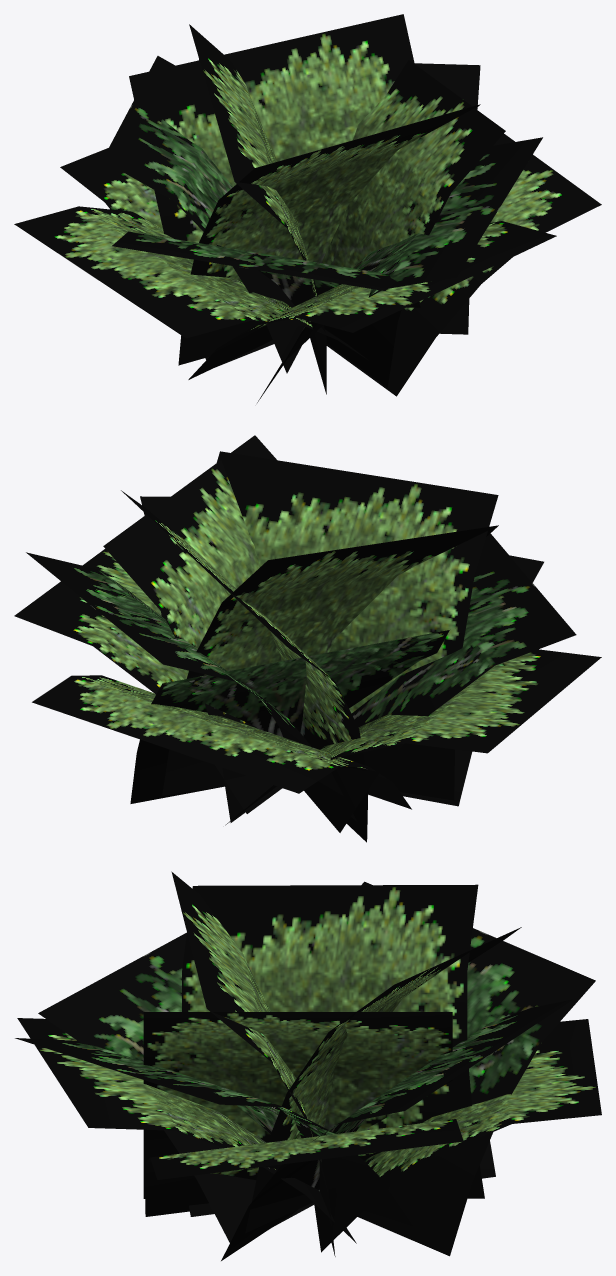
The model's file is bush.obj.
The picture shows the model from 3 angles, top to bottom: view 1: azimuth 30°, elevation 25°; view 2: azimuth 150°, elevation 25°; view 3: azimuth 270°, elevation 25°; orthographic projection. The views are drawn at different scales.
Parts seen in each view (by area): view 1: Vertex_Object_62, Vertex_Object_12, Vertex_Object_72, Vertex_Object_22, Vertex_Object, Vertex_Object_32, Vertex_Object_92, Vertex_Object_112, Vertex_Object_82, Vertex_Object_4, Vertex_Object_102, Vertex_Object_5; view 2: Vertex_Object_72, Vertex_Object_82, Vertex_Object_4, Vertex_Object_12, Vertex_Object_102, Vertex_Object, Vertex_Object_22, Vertex_Object_92, Vertex_Object_5, Vertex_Object_62, Vertex_Object_112; view 3: Vertex_Object_82, Vertex_Object_12, Vertex_Object, Vertex_Object_102, Vertex_Object_4, Vertex_Object_112, Vertex_Object_92, Vertex_Object_5, Vertex_Object_72, Vertex_Object_32, Vertex_Object_62, Vertex_Object_22.
Part boxes in pixels (<box>): Vertex_Object_62: <box>129,14,414,242</box>; Vertex_Object_12: <box>321,60,505,387</box>; Vertex_Object_72: <box>178,104,480,365</box>; Vertex_Object_22: <box>14,206,368,360</box>; Vertex_Object: <box>102,56,304,373</box>; Vertex_Object_32: <box>257,137,542,402</box>; Vertex_Object_92: <box>326,134,601,396</box>; Vertex_Object_112: <box>188,221,556,379</box>; Vertex_Object_82: <box>189,24,326,394</box>; Vertex_Object_4: <box>112,231,420,307</box>; Vertex_Object_102: <box>60,148,274,366</box>; Vertex_Object_5: <box>199,59,480,334</box>; Vertex_Object_72: <box>216,451,498,800</box>; Vertex_Object_82: <box>162,525,498,795</box>; Vertex_Object_4: <box>304,533,576,832</box>; Vertex_Object_12: <box>103,435,276,822</box>; Vertex_Object_102: <box>32,675,411,809</box>; Vertex_Object: <box>130,630,449,803</box>; Vertex_Object_22: <box>225,649,601,825</box>; Vertex_Object_92: <box>14,548,282,813</box>; Vertex_Object_5: <box>26,552,357,821</box>; Vertex_Object_62: <box>121,490,368,842</box>; Vertex_Object_112: <box>400,555,543,806</box>; Vertex_Object_82: <box>182,884,484,1198</box>; Vertex_Object_12: <box>143,1012,452,1198</box>; Vertex_Object: <box>358,881,595,1256</box>; Vertex_Object_102: <box>314,1019,601,1252</box>; Vertex_Object_4: <box>38,932,314,1242</box>; Vertex_Object_112: <box>17,1018,356,1243</box>; Vertex_Object_92: <box>145,1119,463,1216</box>; Vertex_Object_5: <box>221,999,572,1260</box>; Vertex_Object_72: <box>171,871,335,1256</box>; Vertex_Object_32: <box>15,1038,412,1225</box>; Vertex_Object_62: <box>245,927,521,1232</box>; Vertex_Object_22: <box>189,1141,495,1216</box>.
Bounding box in the file's own units: 47.79 × 28.64 × 48.61.
9 materials, 9 textured.
